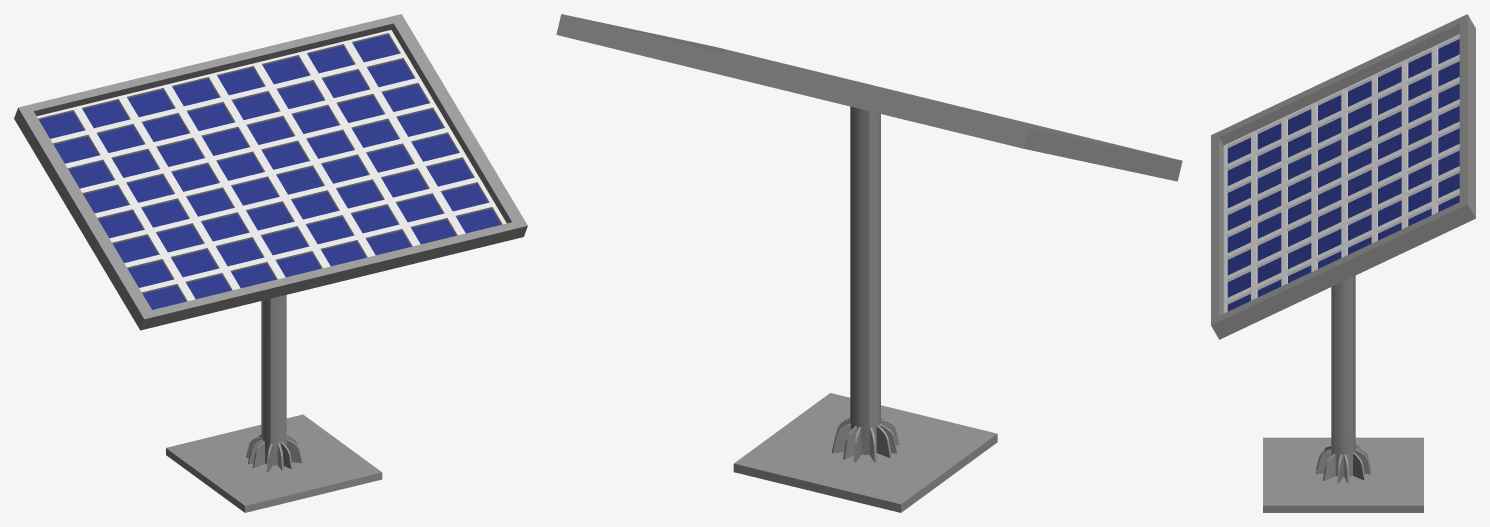
Rendered from panel.fbx.
3 views of the same model, side by side, from view 1: azimuth 30°, elevation 25°; view 2: azimuth 150°, elevation 25°; view 3: azimuth 270°, elevation 25° (orthographic). The views are drawn at different scales.
Parts seen in each view (by area): view 1: Cube, Cube.002, Cube.001; view 2: Cube, Cube.002, Cube.001; view 3: Cube, Cube.002, Cube.001.
Boxes of the visible parts, x1,y1,x2,y2 form: Cube: (14,14,527,330); Cube.002: (166,414,382,512); Cube.001: (245,295,302,471); Cube: (556,14,1182,181); Cube.002: (733,393,997,512); Cube.001: (832,106,899,462); Cube: (1211,14,1475,339); Cube.002: (1263,437,1423,512); Cube.001: (1316,275,1370,483).
Size of the model in its own units: 252 by 227 by 148.
